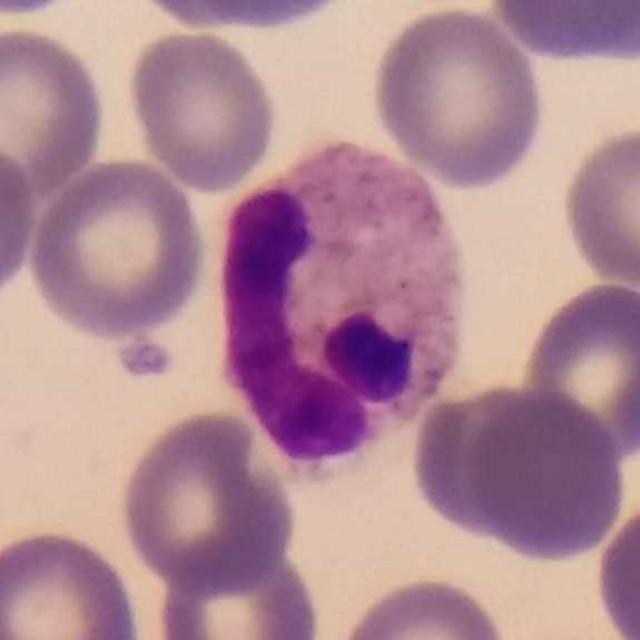Eosinophil: (197, 118, 482, 485)
Platelets: (118, 332, 178, 380)
RBC: (365, 1, 551, 192), (22, 154, 212, 340), (114, 408, 300, 594), (460, 390, 630, 563), (408, 376, 569, 551), (122, 25, 282, 194), (514, 277, 640, 464), (0, 21, 111, 203), (0, 524, 148, 640), (151, 545, 325, 639), (555, 119, 640, 294), (330, 572, 511, 640), (485, 0, 640, 69), (131, 0, 371, 35), (0, 132, 40, 314), (591, 494, 640, 640), (0, 0, 95, 20)
